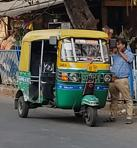Auto: (13, 23, 116, 130)
